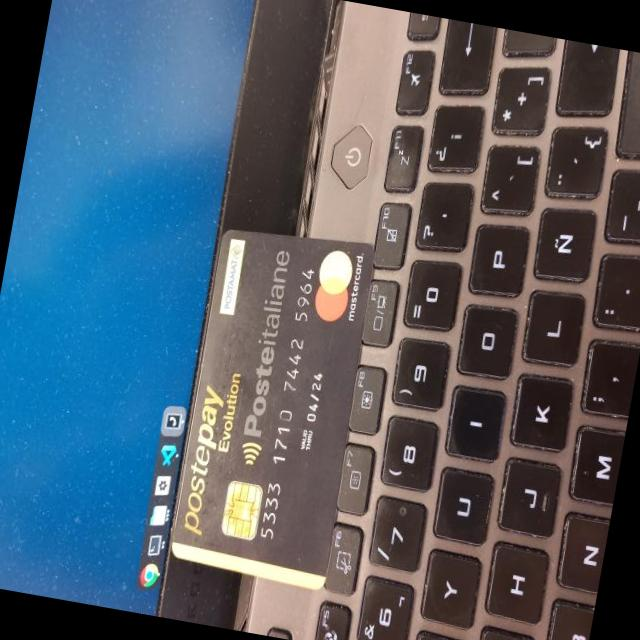card: (150, 206, 382, 598)
